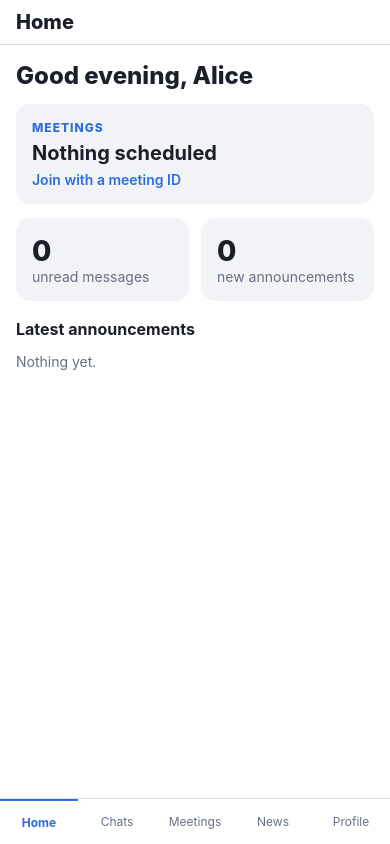
Test: sign out disconnects chat and returns to login
The image size is (390, 844).
Check: the text "Good evening, Alice" is shown, box [16,61,253,90]
Click the tab with aria-label "Chats tab".
click(117, 822)  # box [101,814,133,829]
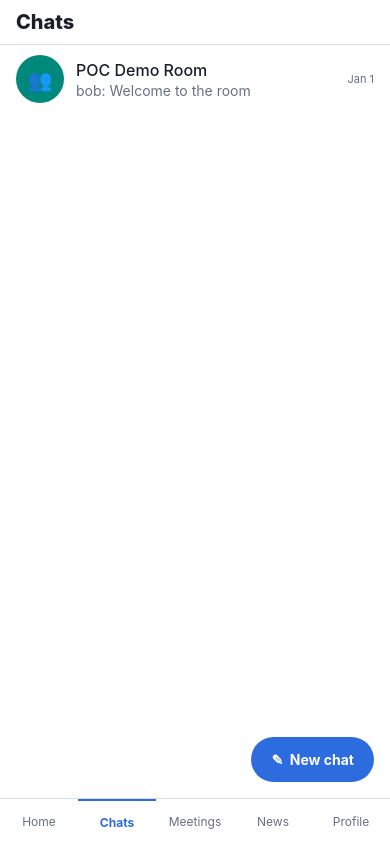
Check: the text "POC Demo Room" is shown, box [76,60,207,80]
Click the tab "Profile".
click(351, 822)  # box [333,814,369,829]
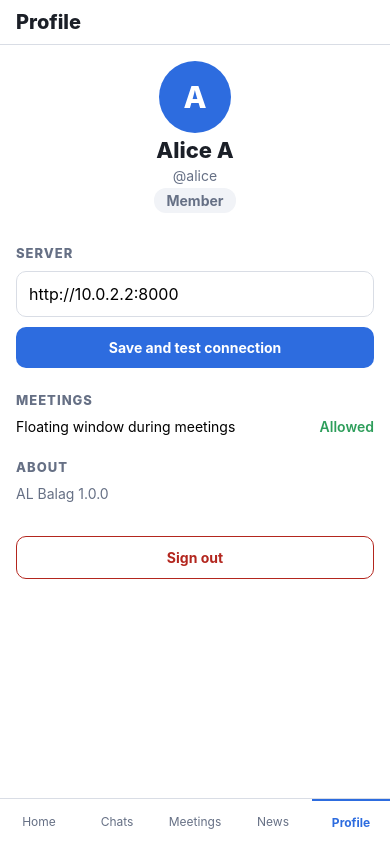
Click the element labelled "Sign out".
click(195, 558)  # box [16,536,374,579]
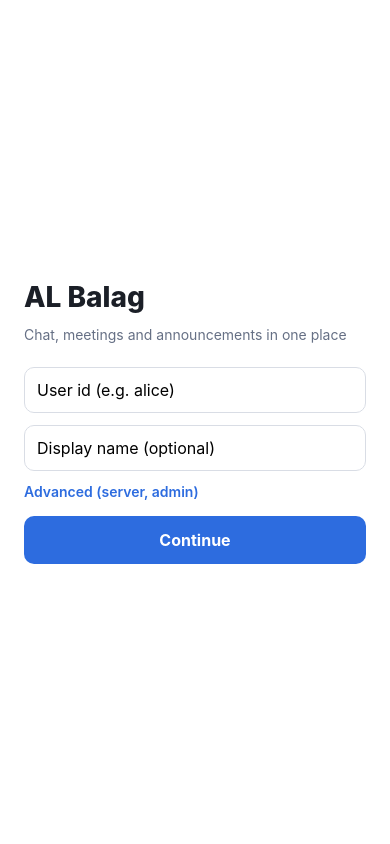
Check: the text "Continue" is shown, box [159,530,231,550]
